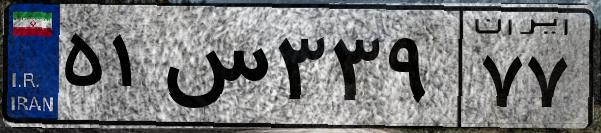1: (110, 28, 158, 98)
3: (270, 28, 330, 110), (330, 28, 385, 110)
5: (57, 26, 110, 100)
7: (475, 38, 525, 113), (525, 38, 570, 115)
9: (385, 28, 445, 110)
س: (158, 20, 270, 120)
